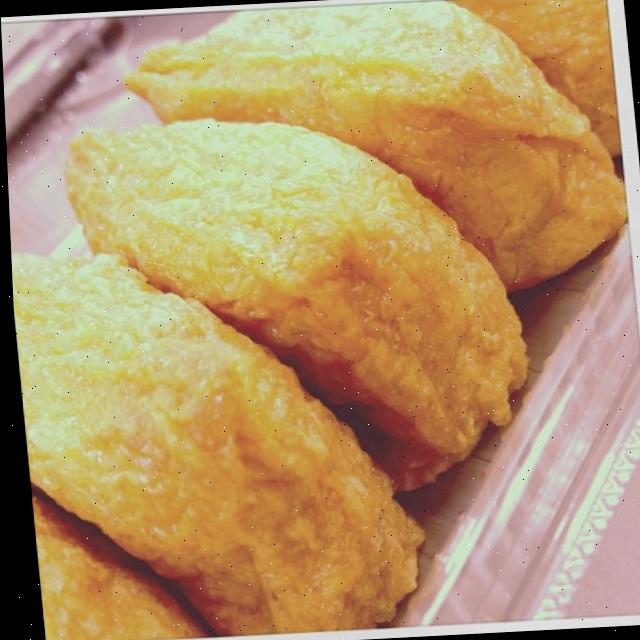寿司卷物: (0, 1, 640, 633)
